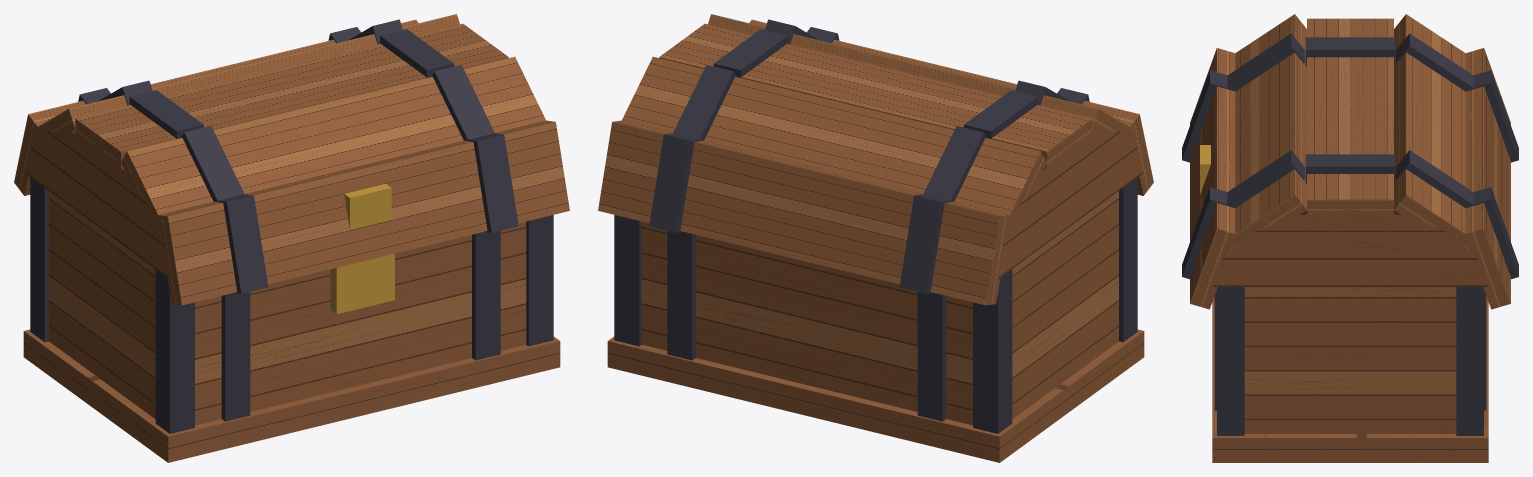
Rendered from chest.glb.
3 renders of one model, left to right at view 1: azimuth 30°, elevation 25°; view 2: azimuth 150°, elevation 25°; view 3: azimuth 270°, elevation 25°, orthographic. The views are drawn at different scales.
Parts seen in each view (by area): view 1: ChestLid, ChestBody; view 2: ChestLid, ChestBody; view 3: ChestLid, ChestBody.
Boxes of the visible parts, x1,y1,x2,y2 form: ChestLid: (14, 14, 569, 305); ChestBody: (23, 170, 560, 462); ChestLid: (598, 14, 1153, 305); ChestBody: (607, 170, 1144, 462); ChestLid: (1182, 14, 1518, 309); ChestBody: (1212, 210, 1488, 462).
Size of the model in its own units: 0.94 by 0.6561 by 0.7318.
4 materials, 1 textured.
